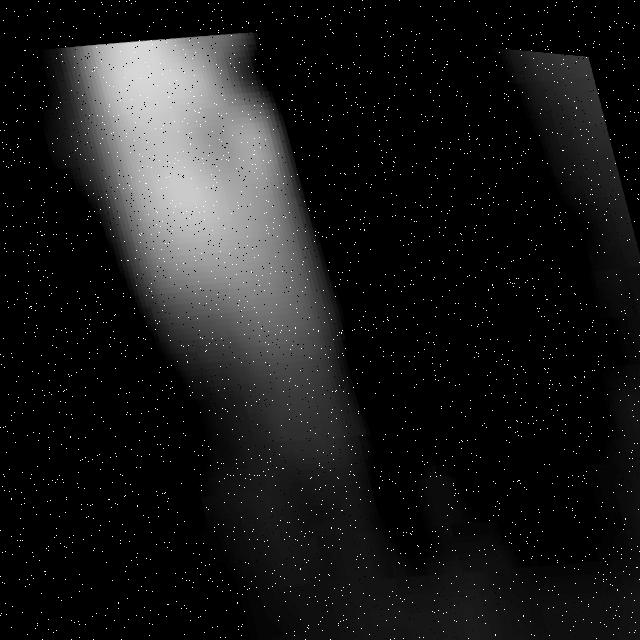person: (46, 5, 392, 469)
